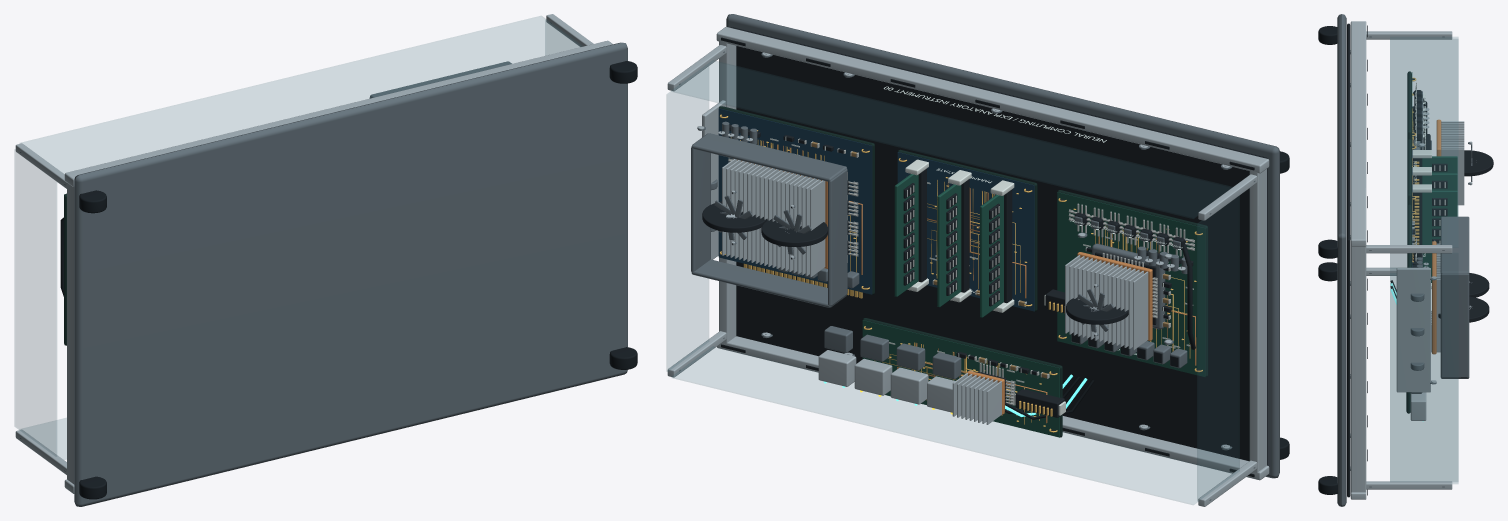
File: history-neuron-v002.glb
The picture shows the model from 3 angles, left to right: view 1: azimuth 30°, elevation 25°; view 2: azimuth 150°, elevation 25°; view 3: azimuth 270°, elevation 25°; orthographic projection. The views are drawn at different scales.
Visible parts, largest first — view 1: GEO-chassis-lower-pan, GEO-observation-glass-end.001, GEO-observation-glass-side, GEO-extruded-side-rail.001, GEO-end-crossmember, GEO-observation-glass-end, GEO-corner-upright, GEO-corner-upright.001; view 2: GEO-chassis-inner-deck, GEO-observation-glass-end.001, GEO-observation-glass-end, GEO-chassis-lower-pan, GEO-observation-glass-side, GEO-observation-glass-side.001, GEO-COMPUTE / C01-solder-mask, GEO-extruded-side-rail.001, GEO-PARALLEL / G03-solder-mask, GEO-MEMORY / M02-solder-mask, GEO-INTERCONNECT / N04-solder-mask, GEO-end-crossmember (+34 smaller); view 3: GEO-observation-glass-side.001, GEO-observation-glass-end.001, GEO-observation-glass-side, GEO-observation-glass-end, GEO-chassis-lower-pan, GEO-end-crossmember.001, GEO-pcie-steel-bracket, GEO-extruded-side-rail.001, GEO-gpu-shroud-side.001, GEO-chassis-inner-deck, GEO-gpu-shroud-end.001, GEO-memory-module-substrate.002 (+22 smaller).
Boxes of the visible parts, x1,y1,x2,y2 form: GEO-chassis-lower-pan: (74,42,627,506); GEO-observation-glass-end.001: (19,16,582,173); GEO-observation-glass-side: (14,149,56,456); GEO-extruded-side-rail.001: (64,40,612,186); GEO-end-crossmember: (67,183,74,484); GEO-observation-glass-end: (20,418,66,459); GEO-corner-upright: (15,429,66,474); GEO-corner-upright.001: (15,143,66,188); GEO-chassis-inner-deck: (731,27,1267,465); GEO-observation-glass-end.001: (671,60,1231,218); GEO-observation-glass-end: (671,346,1231,504); GEO-chassis-lower-pan: (726,14,1279,478); GEO-observation-glass-side: (1197,196,1239,500); GEO-observation-glass-side.001: (666,67,708,371); GEO-COMPUTE / C01-solder-mask: (1057,192,1205,376); GEO-extruded-side-rail.001: (716,27,1269,173); GEO-PARALLEL / G03-solder-mask: (718,108,872,294); GEO-MEMORY / M02-solder-mask: (897,152,1034,311); GEO-INTERCONNECT / N04-solder-mask: (862,320,1059,437); GEO-end-crossmember: (1249,169,1266,472); GEO-observation-glass-side.001: (1390,253,1458,481); GEO-observation-glass-end.001: (1390,37,1458,247); GEO-observation-glass-side: (1390,39,1457,267); GEO-observation-glass-end: (1390,273,1458,483); GEO-chassis-lower-pan: (1337,14,1346,506); GEO-end-crossmember.001: (1350,245,1366,492); GEO-pcie-steel-bracket: (1396,267,1430,392); GEO-extruded-side-rail.001: (1350,21,1366,246); GEO-gpu-shroud-side.001: (1440,273,1469,377); GEO-chassis-inner-deck: (1347,23,1350,497); GEO-gpu-shroud-end.001: (1440,216,1469,273); GEO-memory-module-substrate.002: (1422,190,1457,282).
Size of the model in its own units: 10.14 by 5.8 by 3.36.
